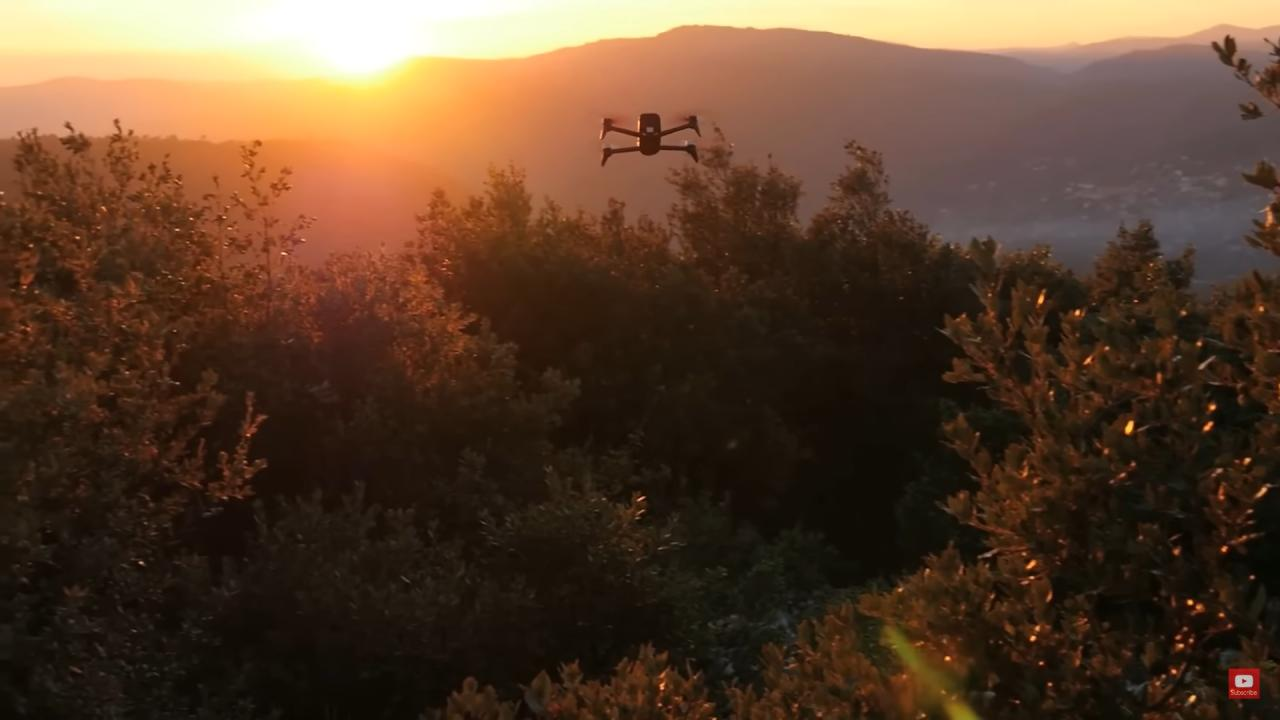Drone: (582, 96, 718, 176)
